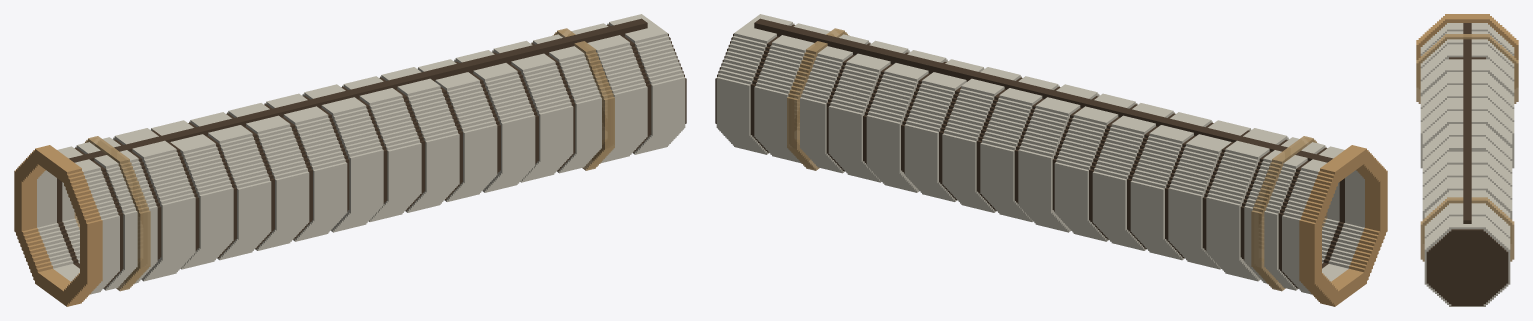
Rendered from quiver_birchbark.glb.
3 views of the same model, side by side, from view 1: azimuth 30°, elevation 25°; view 2: azimuth 150°, elevation 25°; view 3: azimuth 270°, elevation 25° (orthographic). The views are drawn at different scales.
Visible parts, largest first — view 1: quiver_birchbark:compound; view 2: quiver_birchbark:compound; view 3: quiver_birchbark:compound.
Boxes of the visible parts, x1,y1,x2,y2 form: quiver_birchbark:compound: (14,14,686,306); quiver_birchbark:compound: (715,14,1387,306); quiver_birchbark:compound: (1416,14,1518,306).
Bounding box in the file's own units: 0.48 × 0.102 × 0.1.
